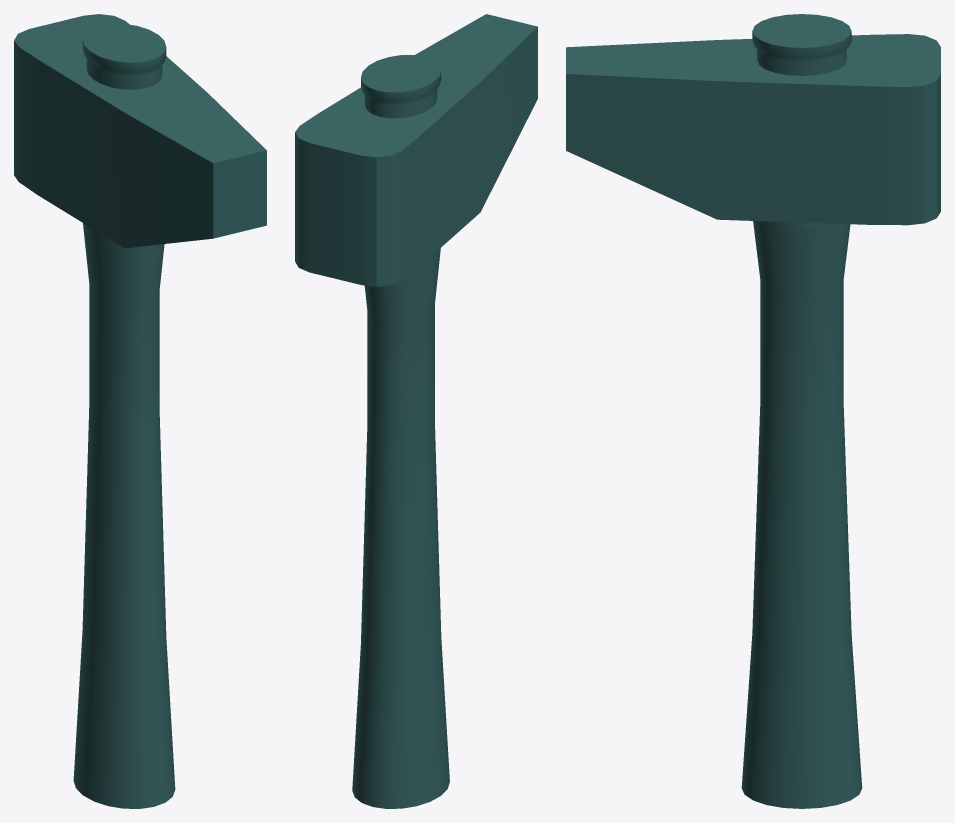
File: hammer low.fbx
3 renders of one model, left to right at view 1: azimuth 30°, elevation 25°; view 2: azimuth 150°, elevation 25°; view 3: azimuth 270°, elevation 25°, orthographic. The views are drawn at different scales.
Visible parts, largest first — view 1: hammer_01_low, hammer_02_low; view 2: hammer_01_low, hammer_02_low; view 3: hammer_01_low, hammer_02_low.
Part boxes in pixels (<box>): hammer_01_low: <box>73,23,175,808</box>; hammer_02_low: <box>14,14,266,248</box>; hammer_01_low: <box>352,55,449,808</box>; hammer_02_low: <box>295,14,537,286</box>; hammer_01_low: <box>741,14,862,808</box>; hammer_02_low: <box>566,34,940,225</box>.
Size of the model in its own units: 4.84 by 32.18 by 14.44.
